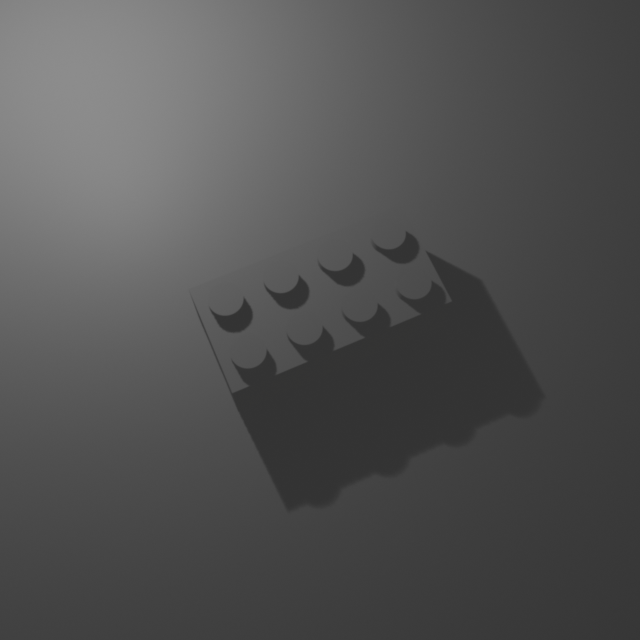lego_2x4: (187, 199, 454, 412)
